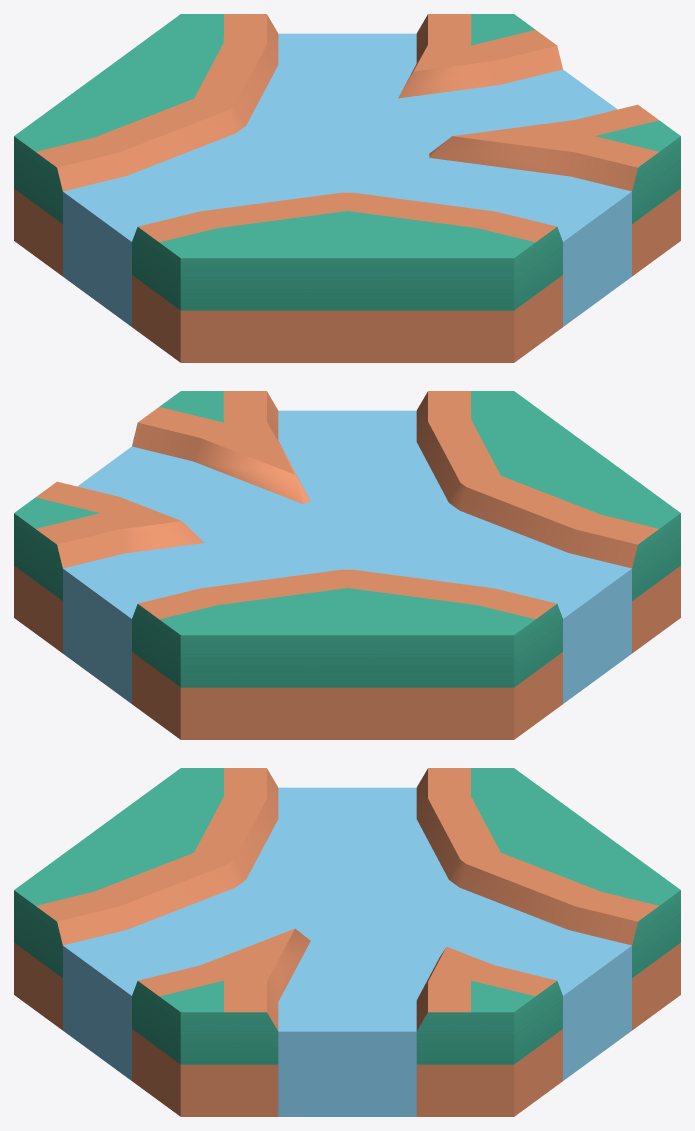
Rendered from river-intersectionD.glb.
3 views of the same model, one above another, from view 1: azimuth 30°, elevation 25°; view 2: azimuth 150°, elevation 25°; view 3: azimuth 270°, elevation 25° (orthographic).
Visible parts, largest first — view 1: river-intersectionD; view 2: river-intersectionD; view 3: river-intersectionD.
Part boxes in pixels (bbox=[...]): river-intersectionD: bbox=[14, 14, 680, 362]; river-intersectionD: bbox=[14, 391, 680, 739]; river-intersectionD: bbox=[14, 768, 680, 1116].
Size of the model in its own units: 1 by 0.2 by 1.15.
1 material, 1 textured.
